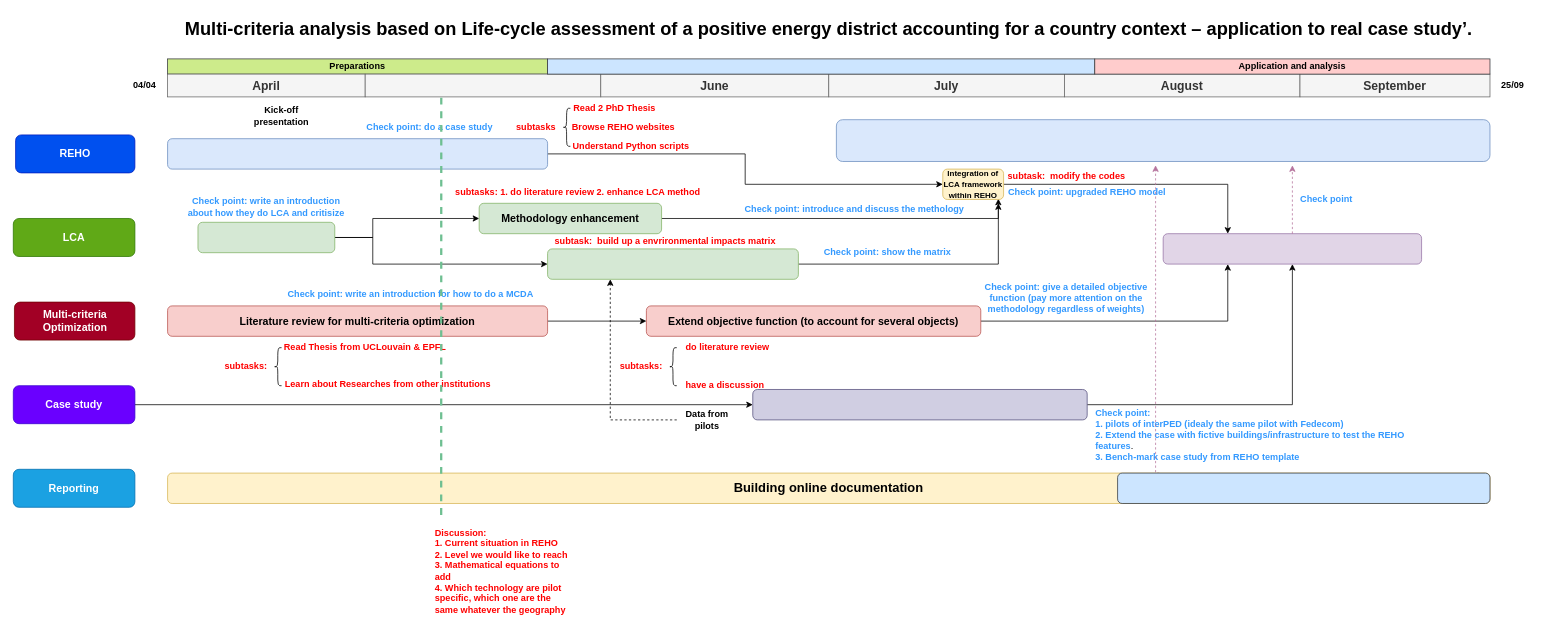
Some shapes in this 1549 by 634 pixel diagram are drawn without their labels. The shapes that lost their labels are listed below. From the top down, each one's box as (x1, y1, x2, y2) in pixels, then its label:
(364, 73, 601, 97): May
(547, 58, 1095, 74): Development
(167, 138, 548, 169): Learn how to use REHO
(836, 119, 1490, 162): Write master thesis and prepare for the final presentation
(197, 222, 335, 253): Understanding the methodology of LCA(REHO)
(1162, 233, 1422, 264): Methodology; Case study specifications; Results; Analysis
(547, 248, 798, 279): LCA database
(752, 389, 1087, 420): Pilot datasets
(1117, 472, 1490, 504): Article publishing preparations
